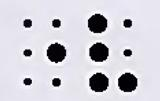dot_5: (22, 18, 67, 87)
two_cell_alphabet_buhay: (89, 13, 138, 93)
